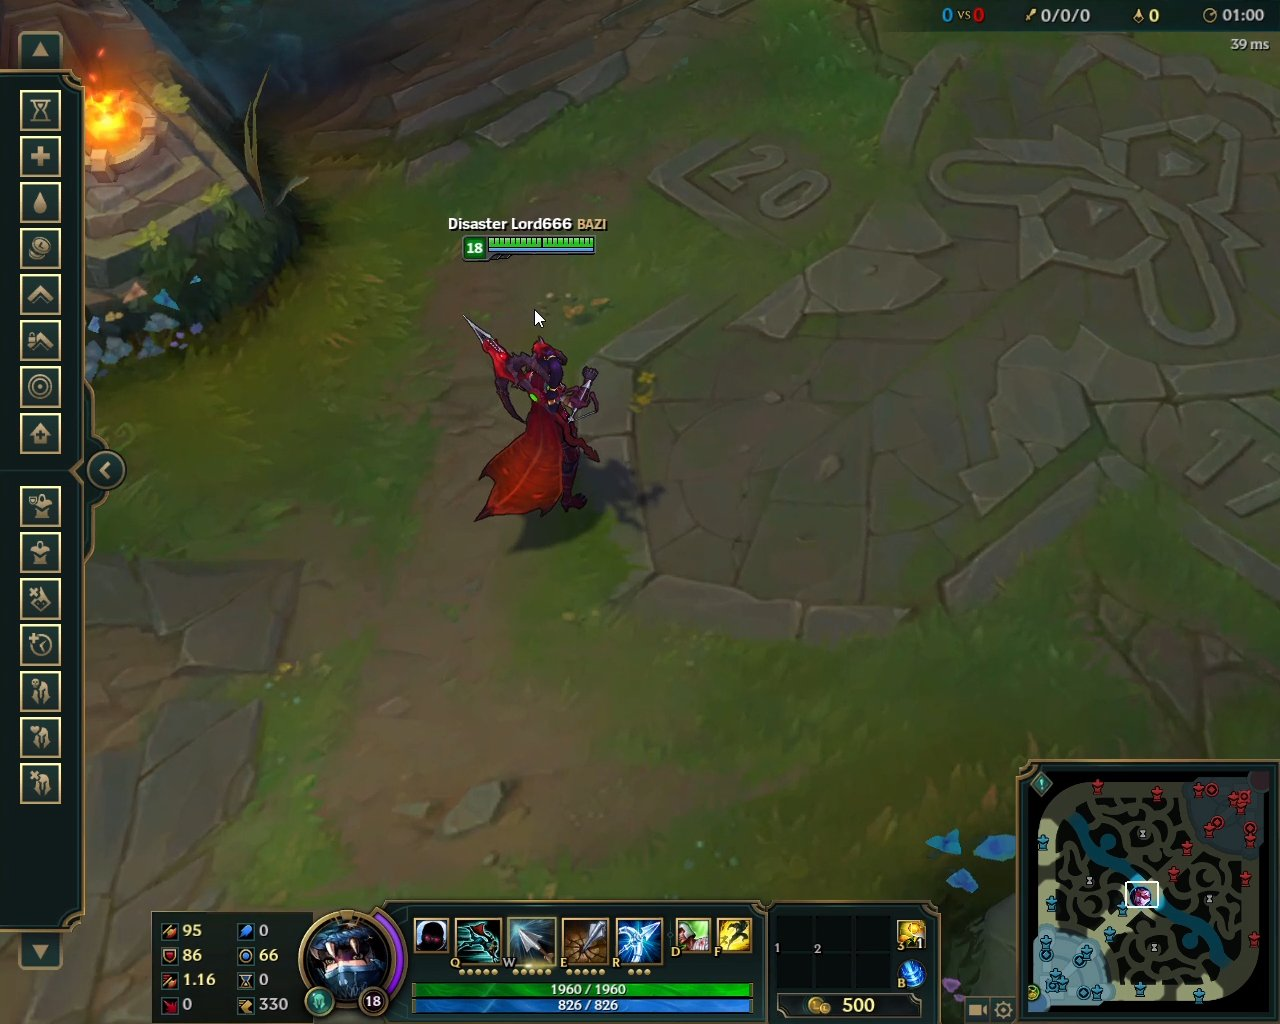Vayne: (451, 306, 611, 535)
